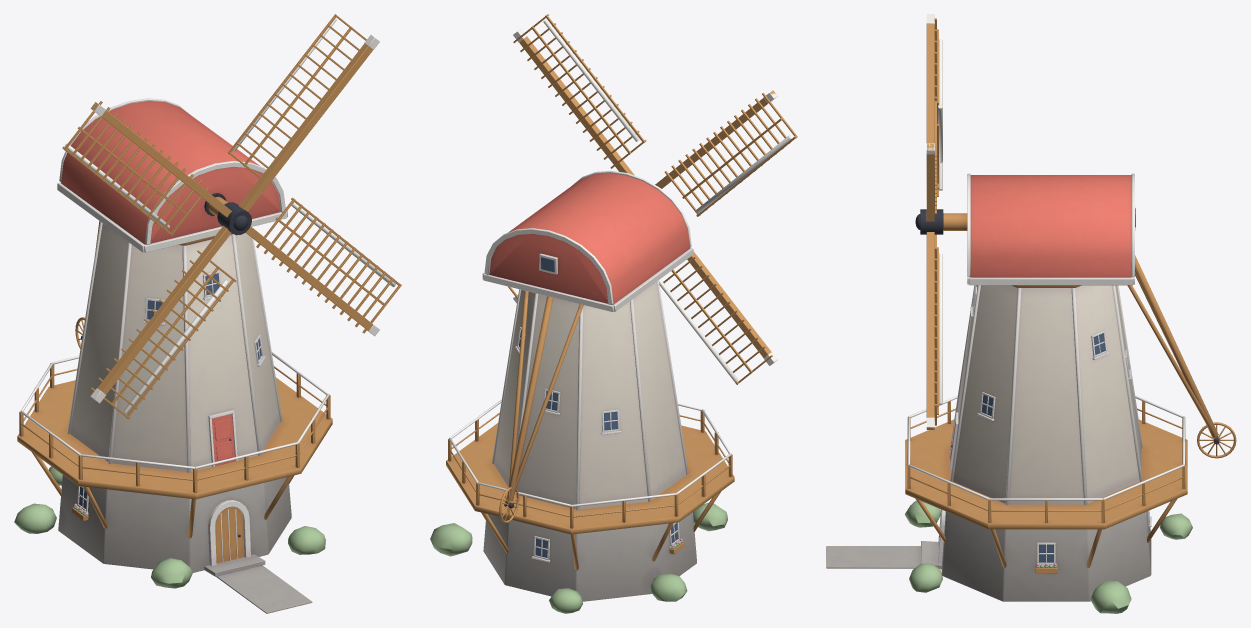
The model's file is windmill.glb.
3 views of the same model, side by side, from view 1: azimuth 30°, elevation 25°; view 2: azimuth 150°, elevation 25°; view 3: azimuth 270°, elevation 25° (orthographic). The views are drawn at different scales.
Parts seen in each view (by area): view 1: windmill_body, windmill_sails; view 2: windmill_body, windmill_sails; view 3: windmill_body, windmill_sails.
Part boxes in pixels (x1,y1,x2,y2): windmill_body: (14, 98, 332, 613); windmill_sails: (62, 14, 401, 419); windmill_body: (430, 170, 734, 613); windmill_sails: (508, 14, 797, 384); windmill_body: (826, 173, 1236, 613); windmill_sails: (915, 14, 943, 429).
Size of the model in its own units: 16.16 by 24.08 by 17.7.
4 materials, 1 textured.
